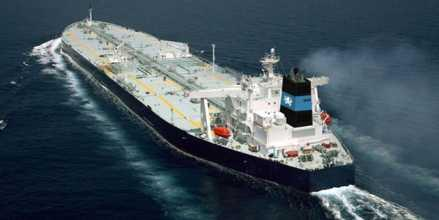Cargoship: (59, 6, 366, 189)
